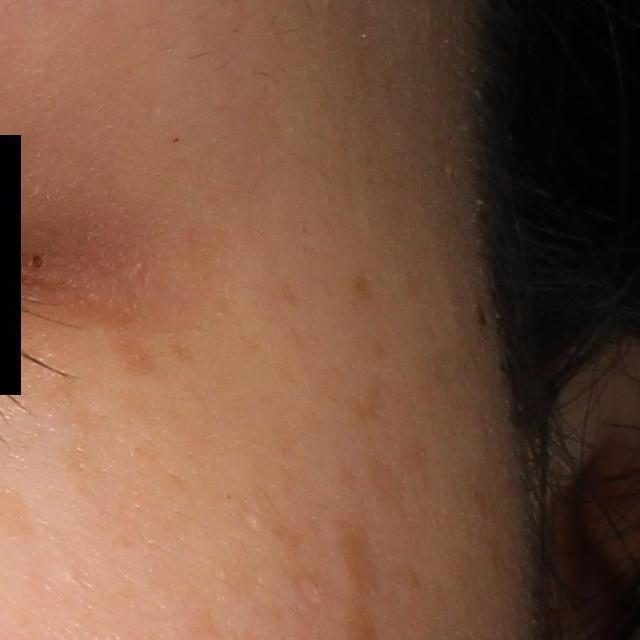melasma: (88, 221, 278, 391), (311, 370, 394, 430), (61, 406, 109, 503), (216, 552, 261, 607), (368, 455, 406, 518), (343, 271, 375, 300)
